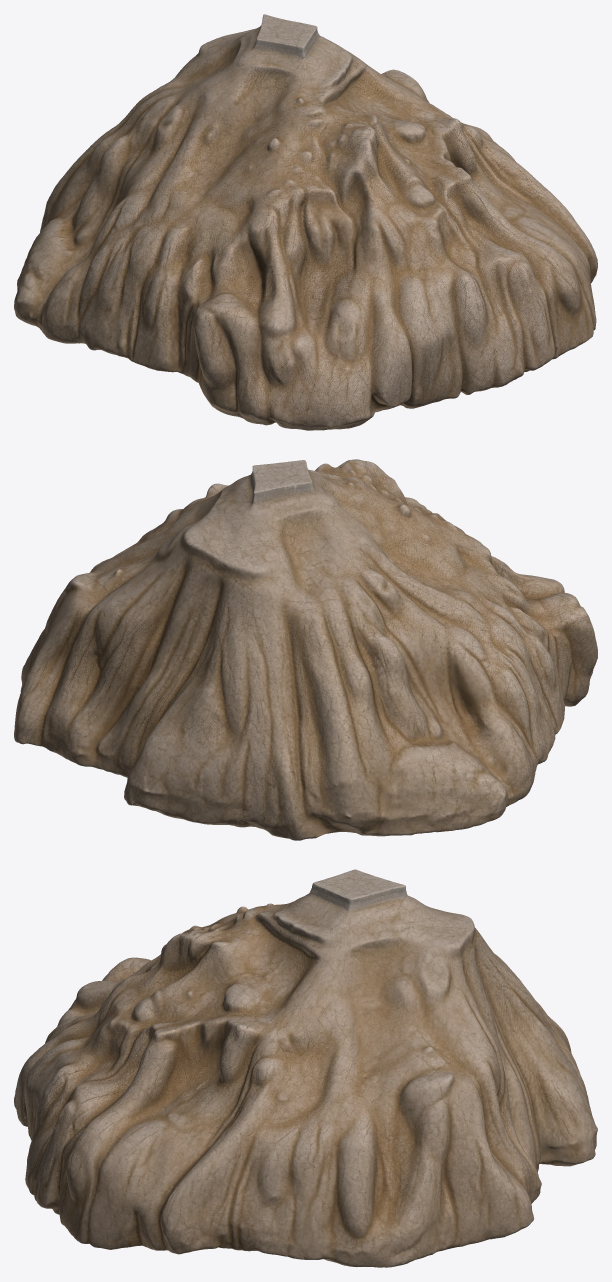
The model's file is Meshy_AI_A_realistic_3D_game_e_0909180616_texture.fbx.
The picture shows the model from 3 angles, top to bottom: view 1: azimuth 30°, elevation 25°; view 2: azimuth 150°, elevation 25°; view 3: azimuth 270°, elevation 25°; orthographic projection. The views are drawn at different scales.
Parts seen in each view (by area): view 1: Mesh_0; view 2: Mesh_0; view 3: Mesh_0.
Part boxes in pixels (x1,y1,x2,y2): Mesh_0: [14, 14, 597, 430]; Mesh_0: [14, 459, 597, 840]; Mesh_0: [14, 869, 597, 1267].
Size of the model in its own units: 187 by 100 by 190.
1 material, 1 textured.
